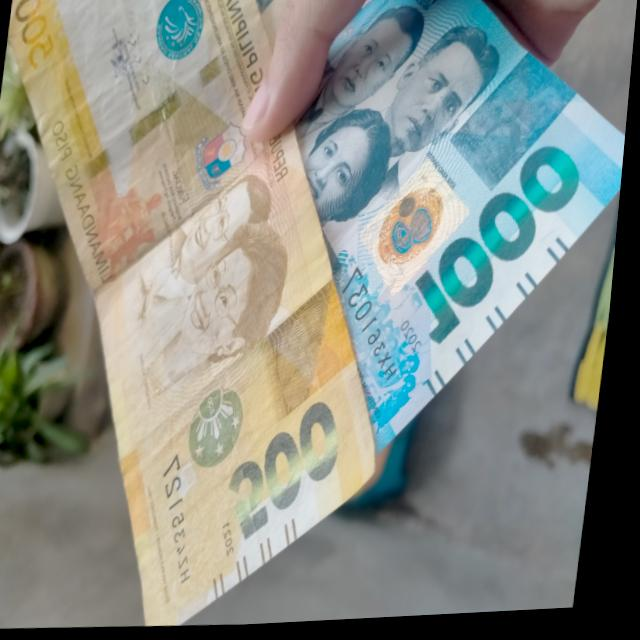concealed_value: (447, 46, 576, 197), (251, 279, 365, 421)
optically_variable_device: (356, 156, 469, 300), (172, 363, 275, 496)
security_thread: (56, 19, 266, 209)
value: (412, 145, 581, 353), (223, 395, 356, 542)
